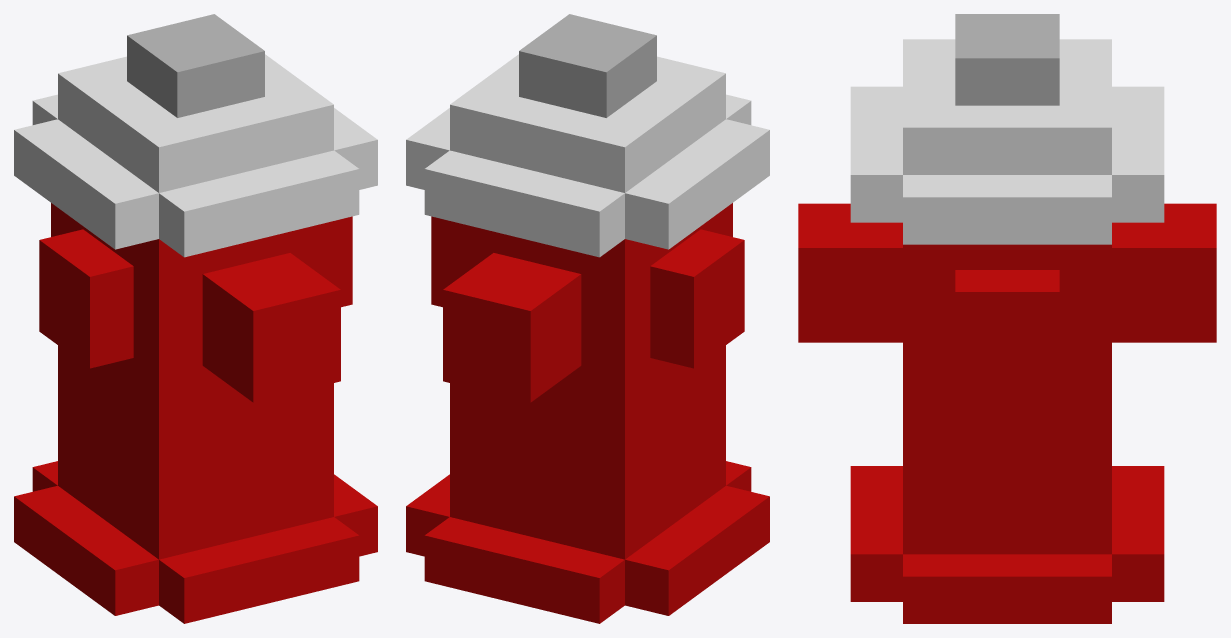
Rendered from obj_hydrant.dae.
3 renders of one model, left to right at view 1: azimuth 30°, elevation 25°; view 2: azimuth 150°, elevation 25°; view 3: azimuth 270°, elevation 25°, orthographic. The views are drawn at different scales.
Visible parts, largest first — view 1: obj_hydrant; view 2: obj_hydrant; view 3: obj_hydrant.
Boxes of the visible parts, x1,y1,x2,y2 form: obj_hydrant: (14, 14, 377, 623); obj_hydrant: (406, 14, 769, 623); obj_hydrant: (798, 14, 1216, 623).
Bounding box in the file's own units: 0.6 × 0.8 × 1.1.
1 material, 1 textured.
